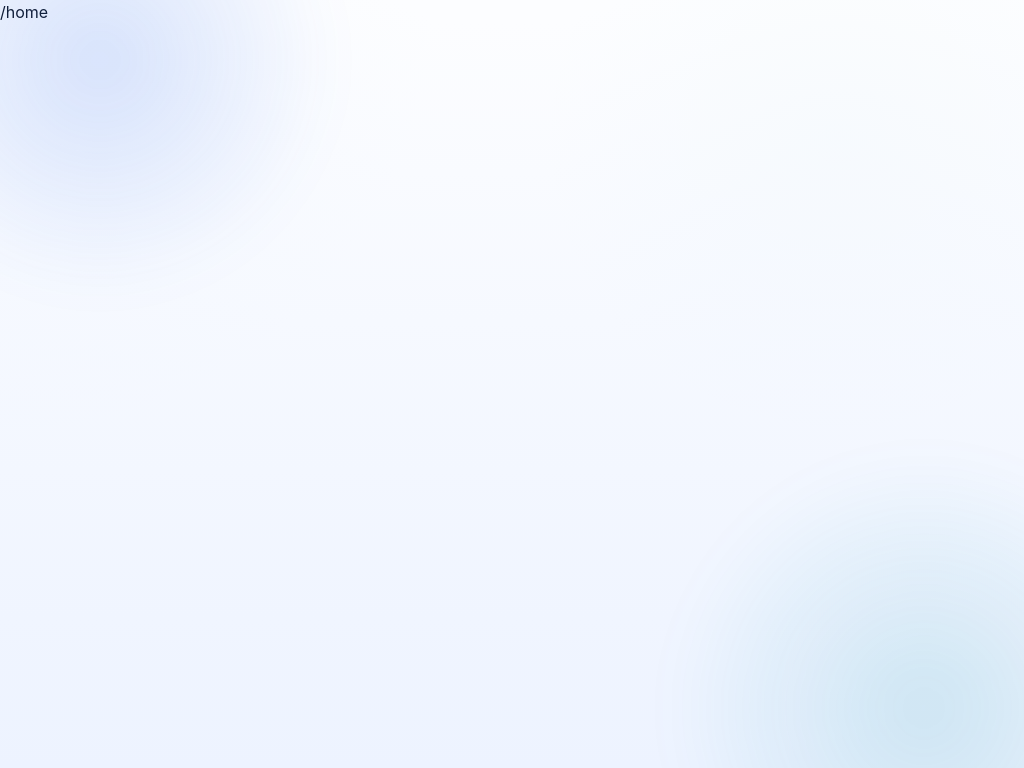
Scenario: CommandPalette › shows Data Studio to owners
The width and height of the screenshot is (1024, 768).
Type keys "{Control>}k{/Control}"
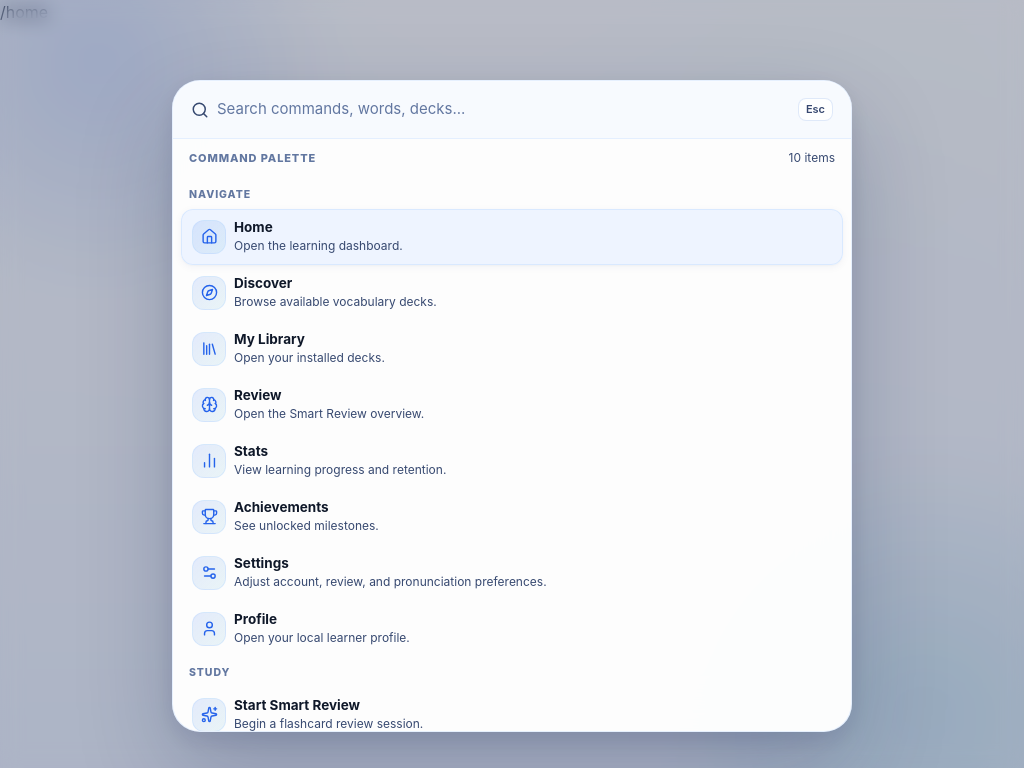
Type "data" into the search field named "Command palette search" at (503, 110), box [217, 98, 790, 121]
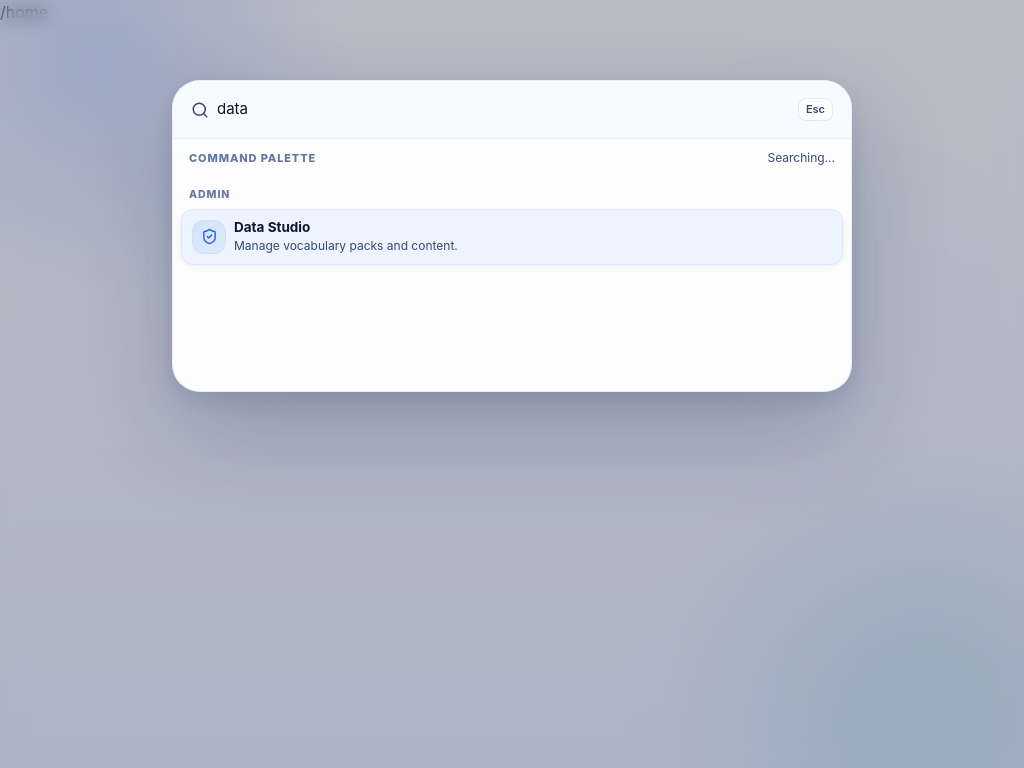
Now the text "Data Studio" is shown, box [234, 219, 310, 235]
